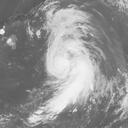cyclone: (46, 50, 72, 78)
